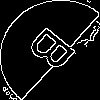B: (25, 25, 86, 80)
